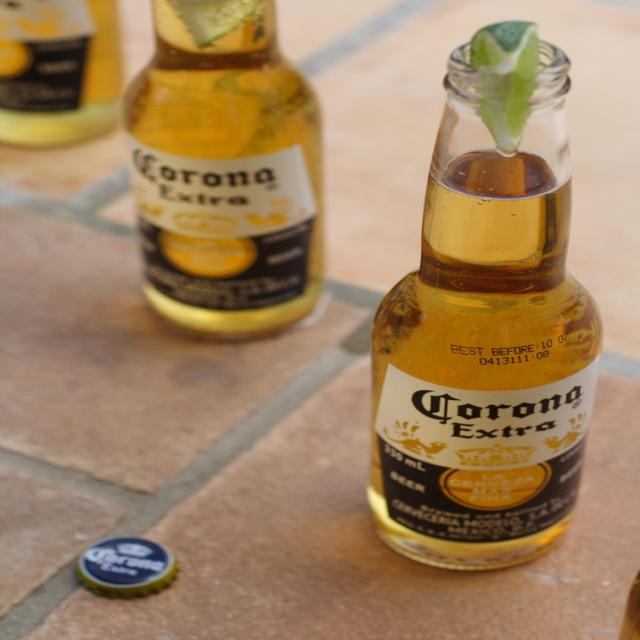corona: (375, 356, 602, 544), (126, 133, 320, 313)
